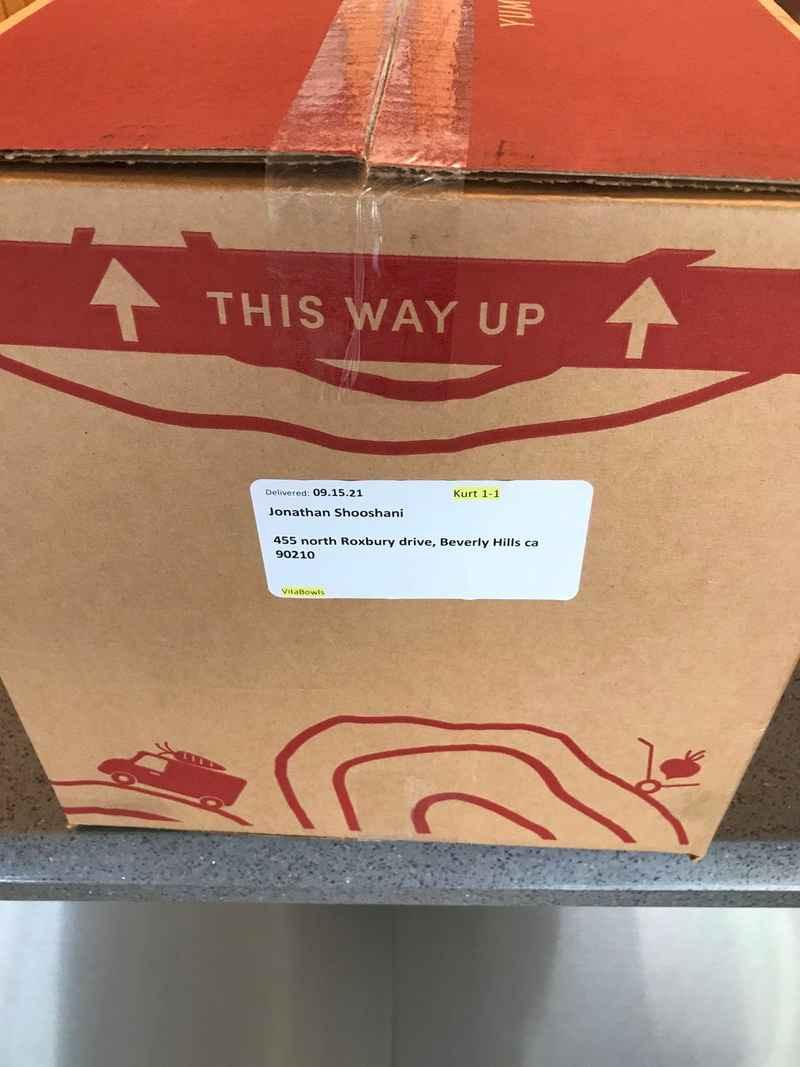package: (3, 3, 800, 878)
